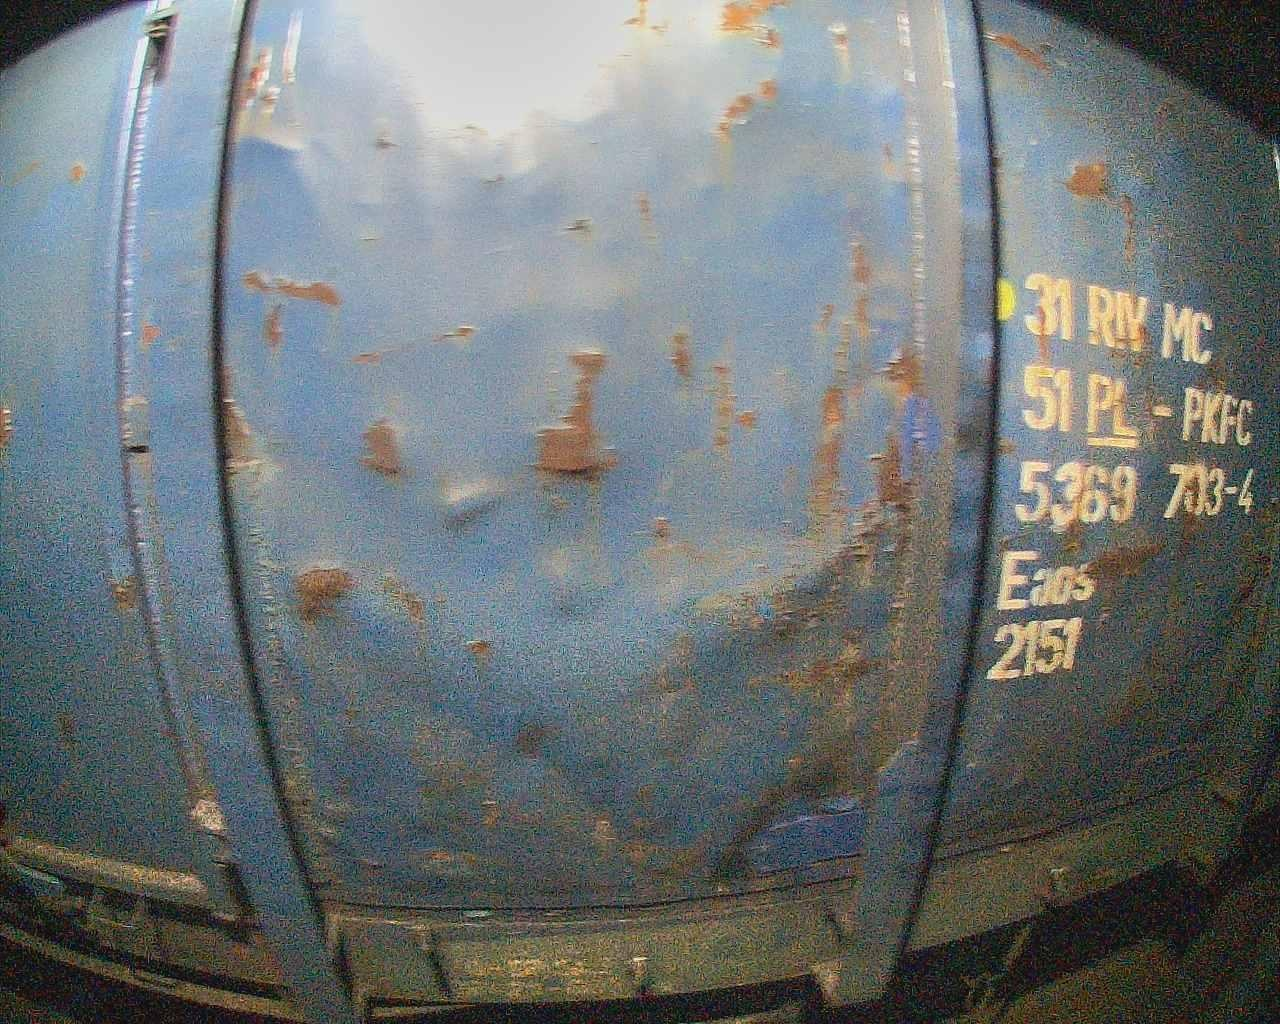UIC: (984, 272, 1256, 690)
